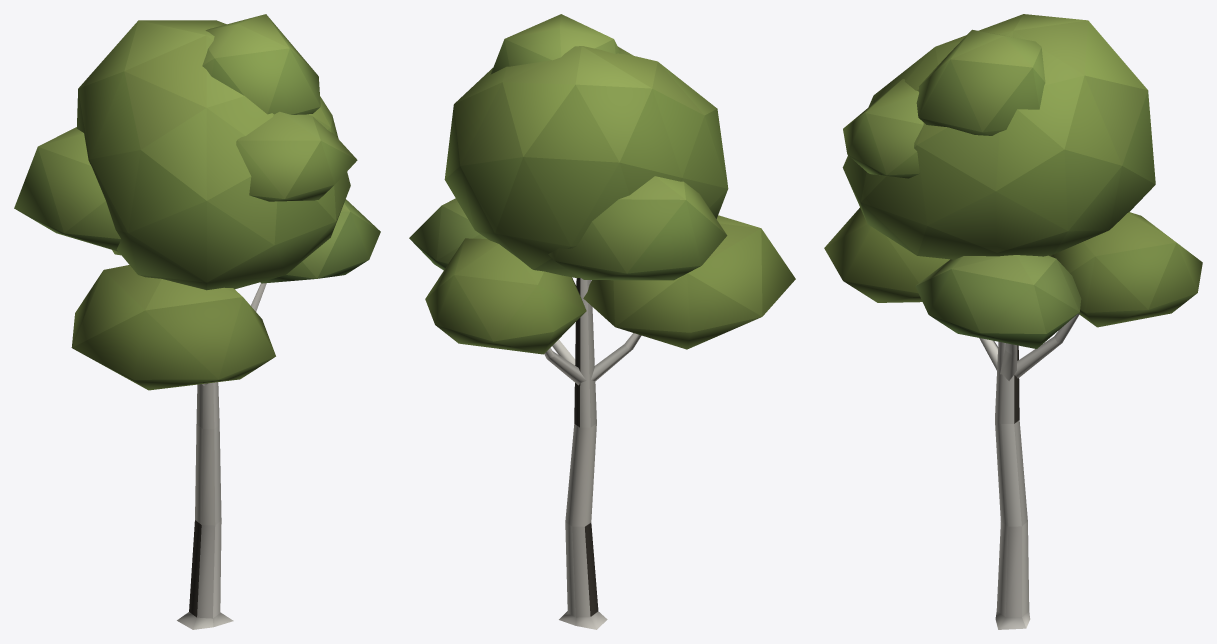
The model's file is birch.glb.
The picture shows the model from 3 angles, left to right: view 1: azimuth 30°, elevation 25°; view 2: azimuth 150°, elevation 25°; view 3: azimuth 270°, elevation 25°; orthographic projection. The views are drawn at different scales.
Visible parts, largest first — view 1: birch; view 2: birch; view 3: birch.
Part boxes in pixels (x1,y1,x2,y2): birch: (14, 14, 380, 629); birch: (409, 14, 795, 629); birch: (824, 14, 1202, 629).
Bounding box in the file's own units: 3.1 × 5.5 × 3.16.
